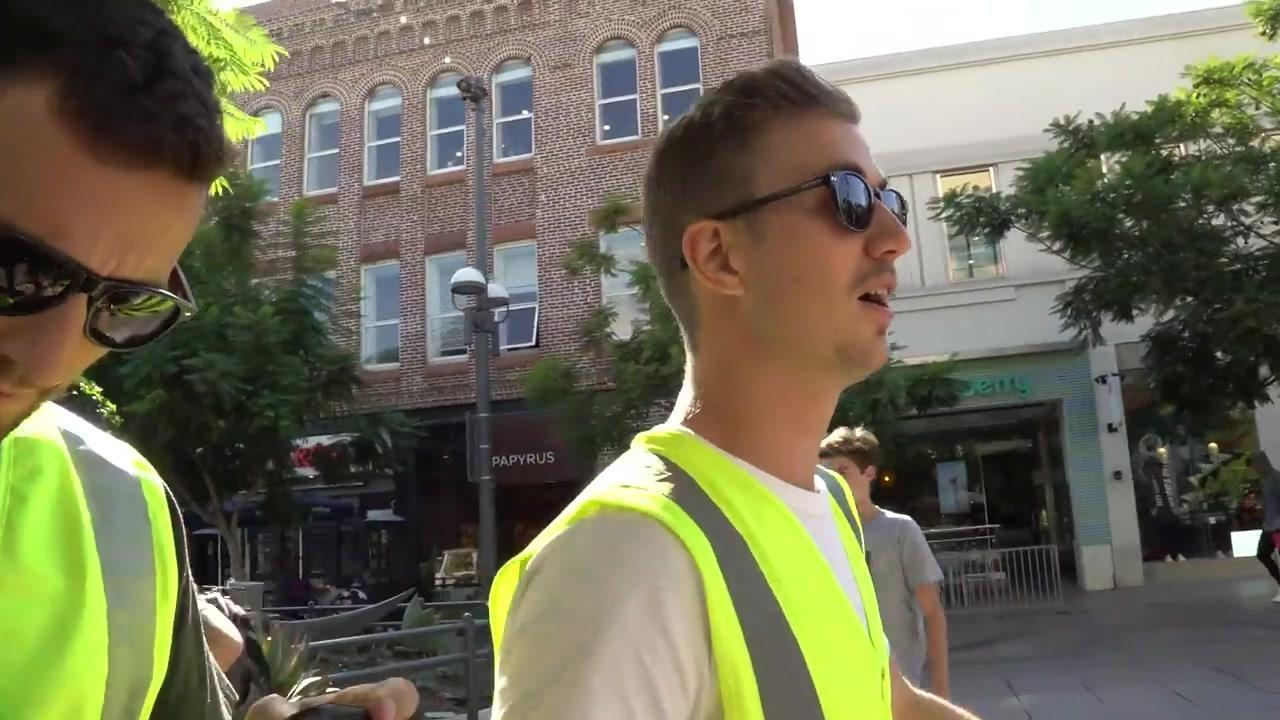vest: (483, 427, 894, 718), (2, 398, 180, 719)
